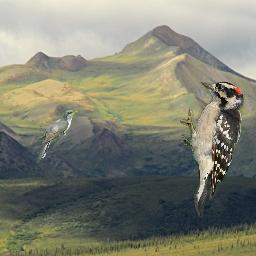Cuckoo: (37, 110, 78, 163)
Woodpecker: (180, 82, 246, 217)
